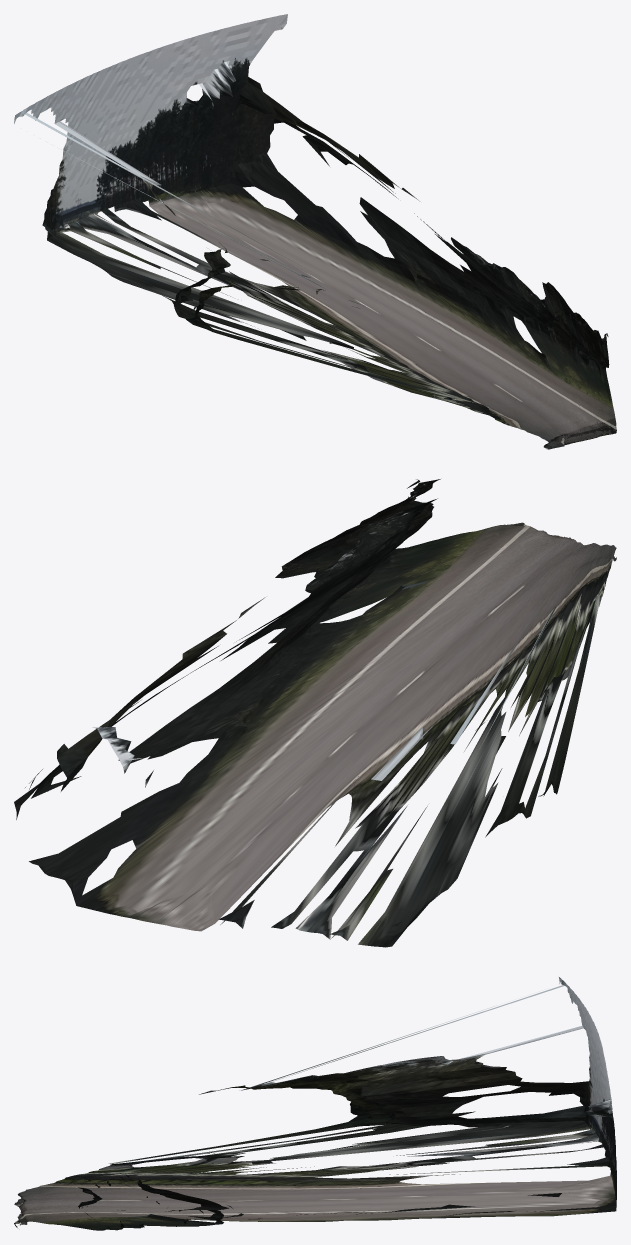
The picture shows the model from 3 angles, top to bottom: view 1: azimuth 30°, elevation 25°; view 2: azimuth 150°, elevation 25°; view 3: azimuth 270°, elevation 25°; orthographic projection. The views are drawn at different scales.
Parts seen in each view (by area): view 1: defaultobject; view 2: defaultobject; view 3: defaultobject.
Part boxes in pixels (x1,y1,x2,y2): defaultobject: [14, 14, 616, 449]; defaultobject: [14, 479, 616, 947]; defaultobject: [14, 977, 616, 1230].
Bounding box in the file's own units: 24.49 × 11.67 × 44.52.
1 material, 1 textured.
